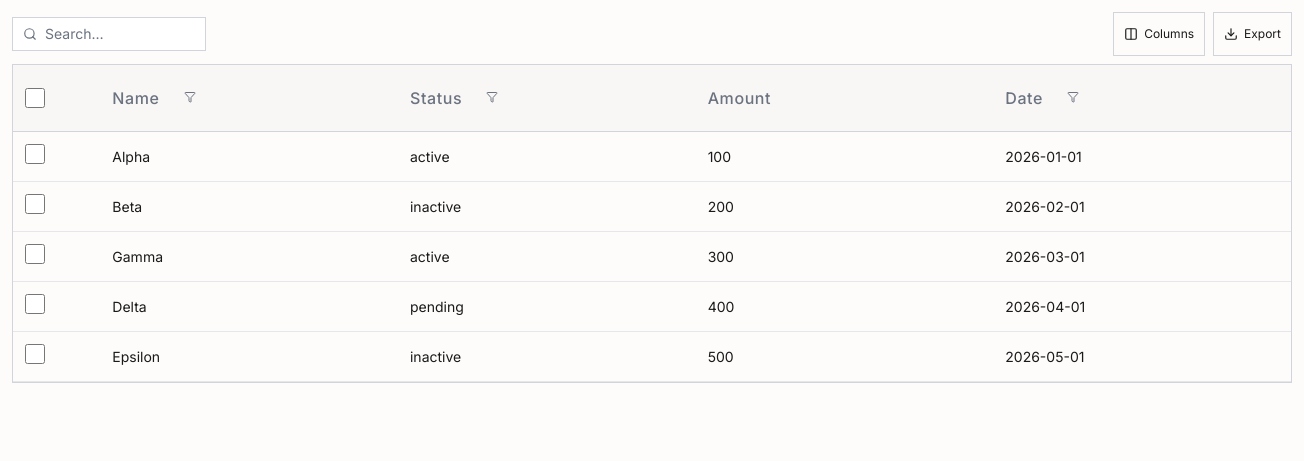
DataTable — bulk action bar › bulk action bar appears when a row is selected
What coordinates should you click on to do the following:
click the checkbox named "Select row 1"
I would click on:
 (35, 154)
Its box is [25, 144, 45, 164].
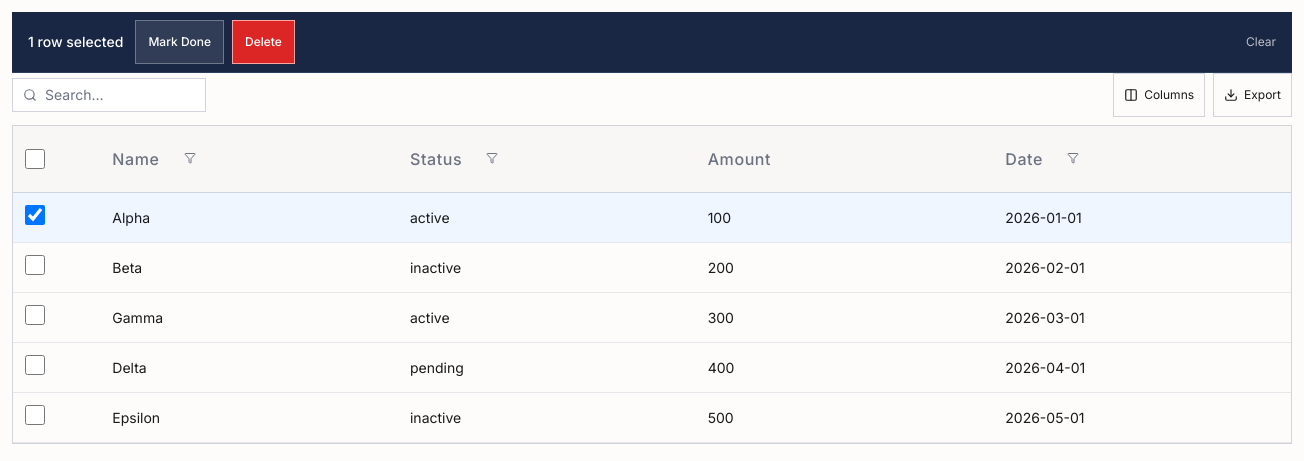
Now the element named "Bulk actions" is shown, box [12, 12, 1292, 73]
